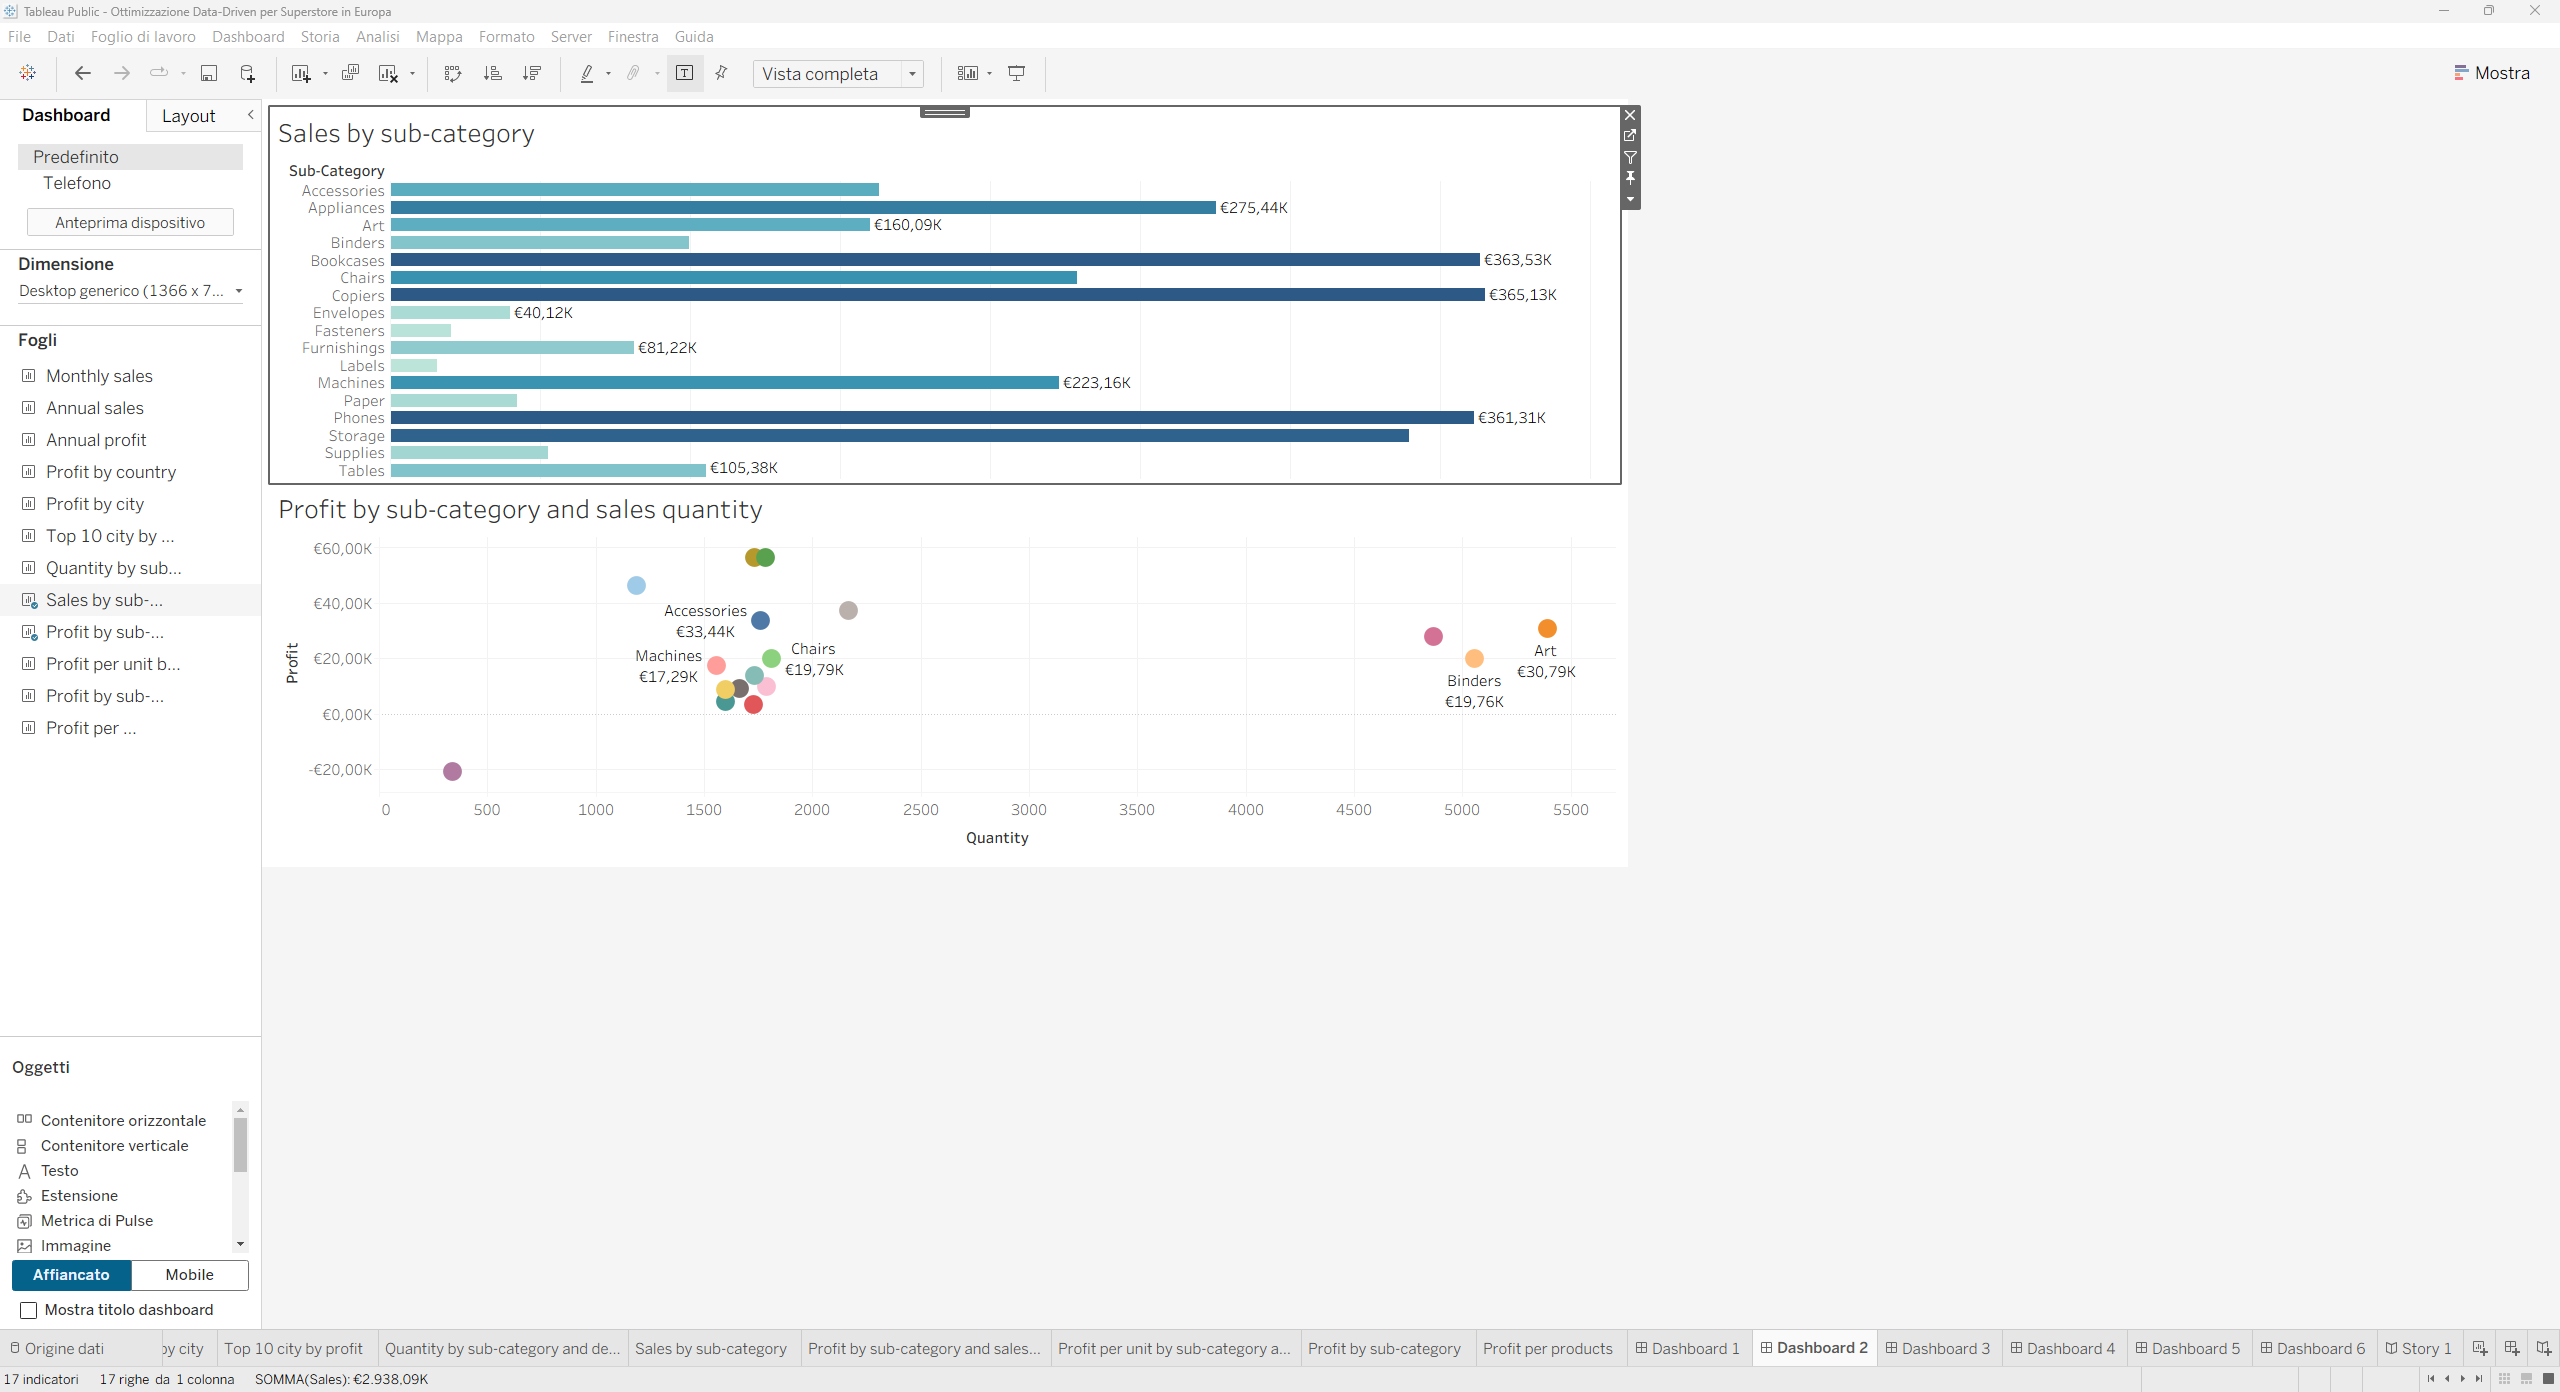

What the dashboard file says about the page in this screenshot:
{"tool":"tableau","page":{"name":"Dashboard 2","canvas":[1366,768],"ordinal":1},"visuals":[{"type":"worksheet","title":"Sales by sub-category","mark":"Automatic","rows":["Sub-Category"],"cols":["Sales"],"box":[8,8,1350,376]},{"type":"worksheet","title":"Profit by sub-category and sales quantity","mark":"Automatic","rows":["Profit"],"cols":["Quantity"],"box":[8,384,1350,376]}]}

Visuals, with their boxes on the page's 1366x768 design canvas (x1, y1, x2, y2). These are canvas units, not pixel positions in the 2560x1392 screenshot, which may show the page scaled, cropped or inside an application window:
"Sales by sub-category" worksheet: l=8, t=8, r=1358, b=384
"Profit by sub-category and sales quantity" worksheet: l=8, t=384, r=1358, b=760
